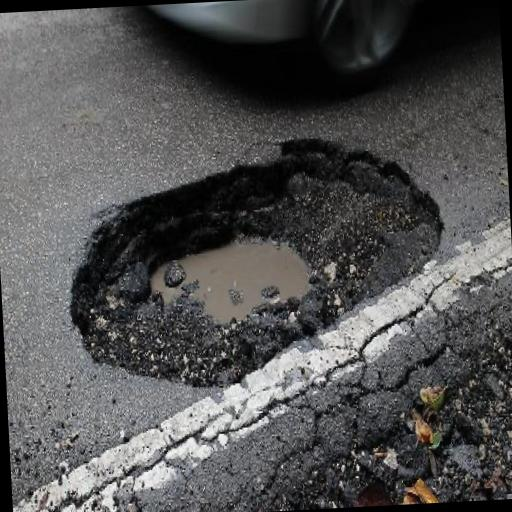pothole: (60, 125, 456, 399)
